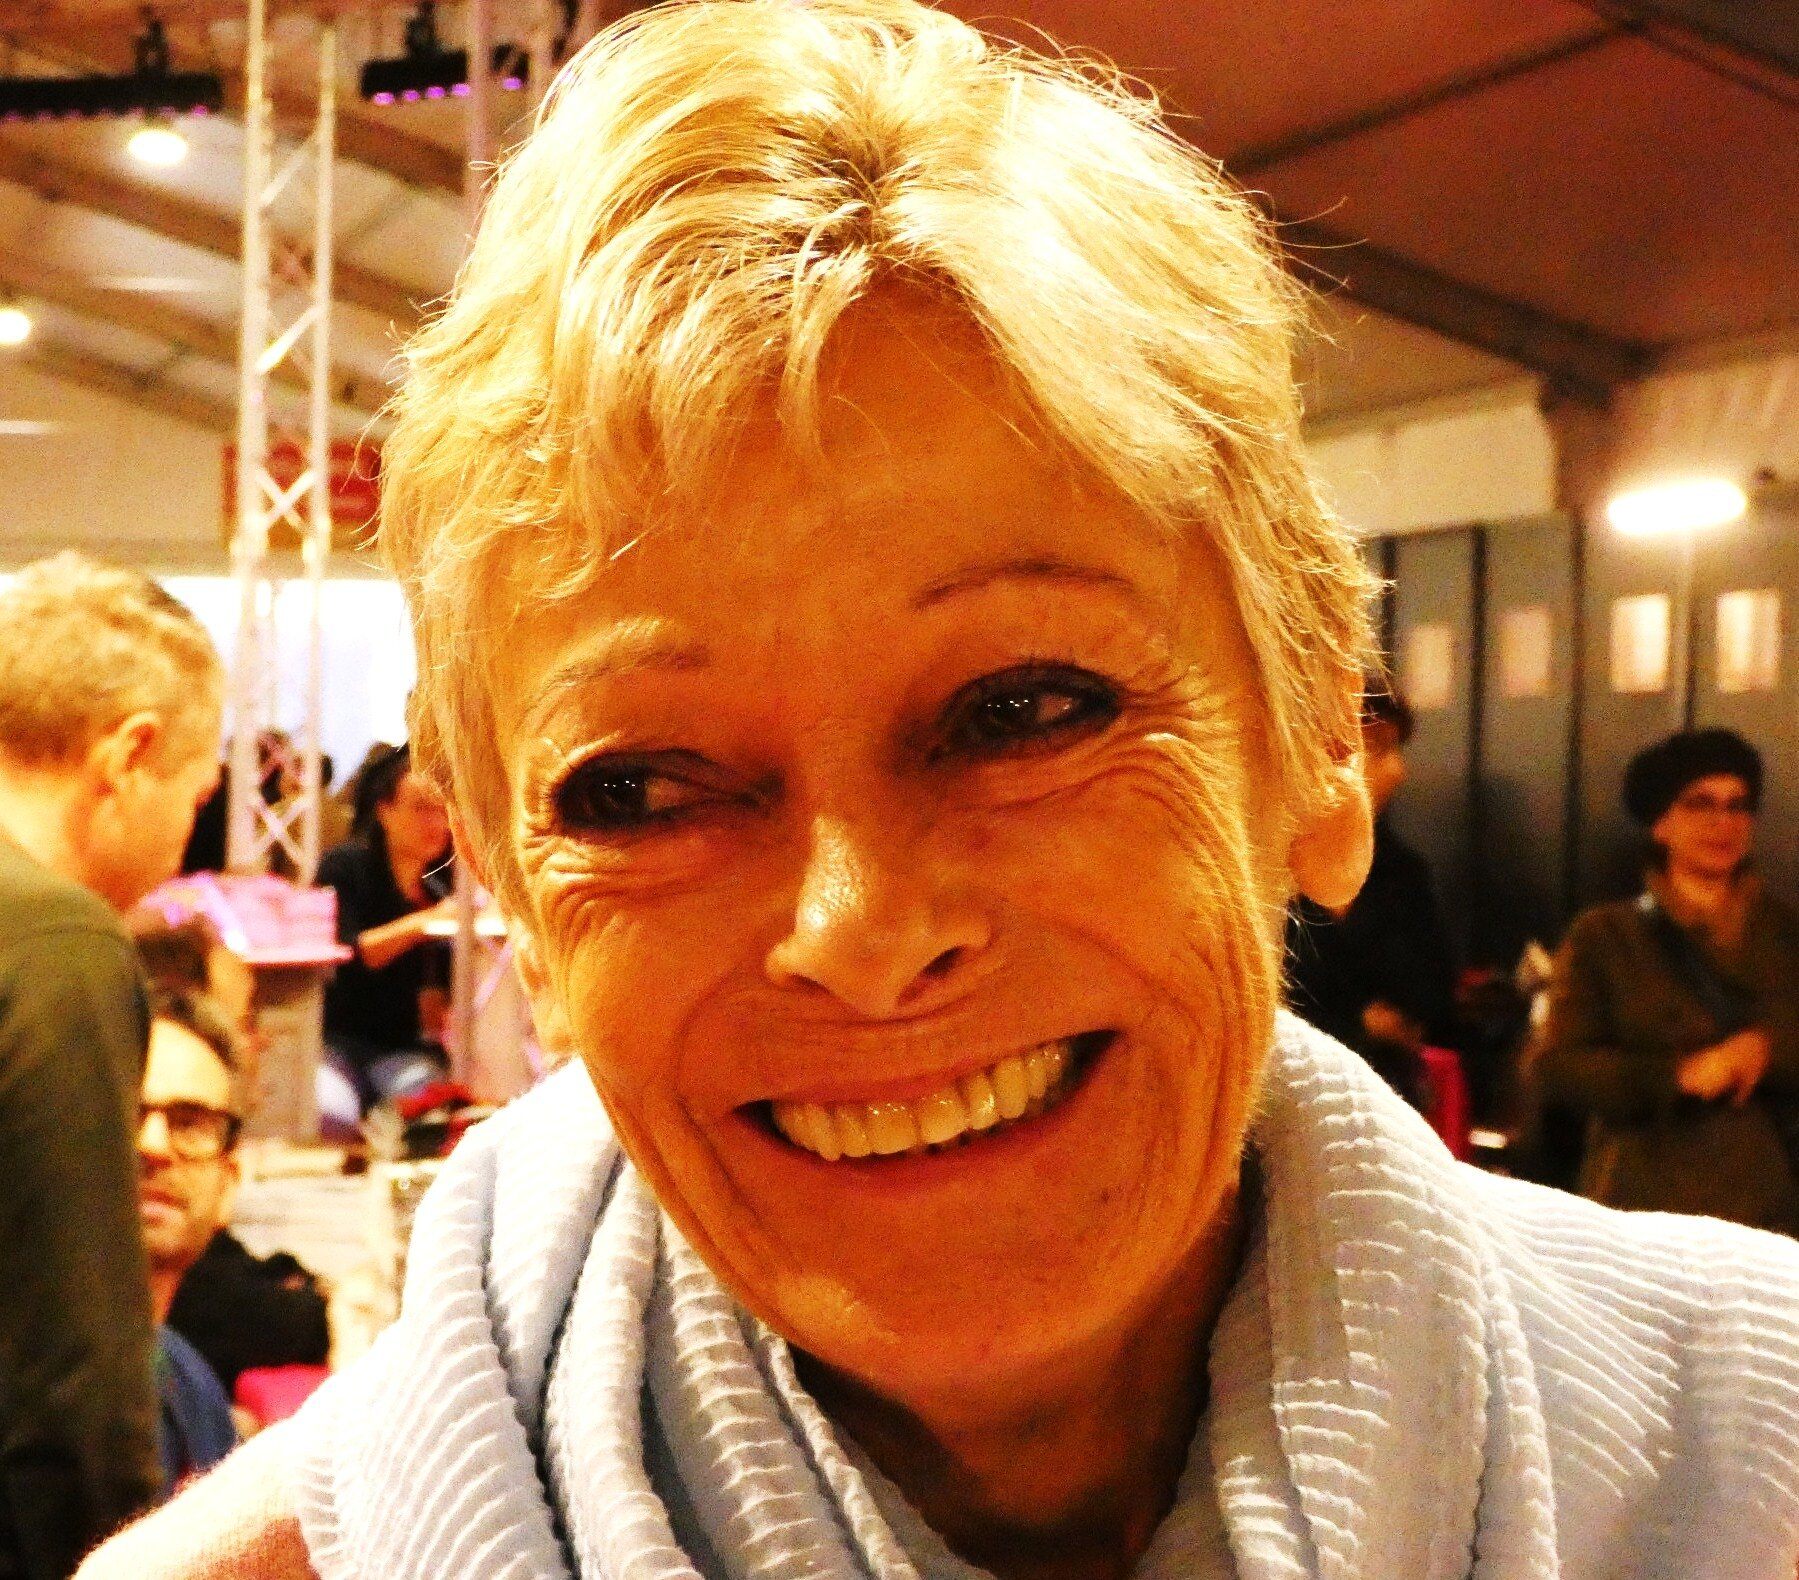without_mask: (498, 517, 1207, 1257)
